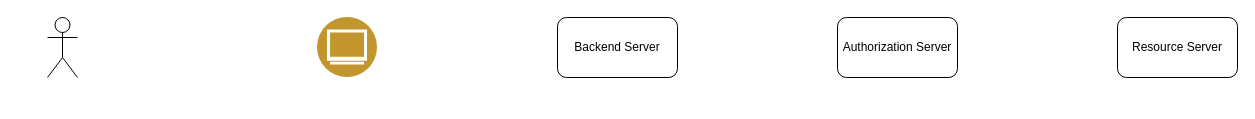
Image size: 1255x119. Some labels were removed from this diagram. Each missing label, with the centre of its shape:
"Browser (UI Application)" goes at point (347, 47).
"Resource Owner" goes at point (62, 47).
